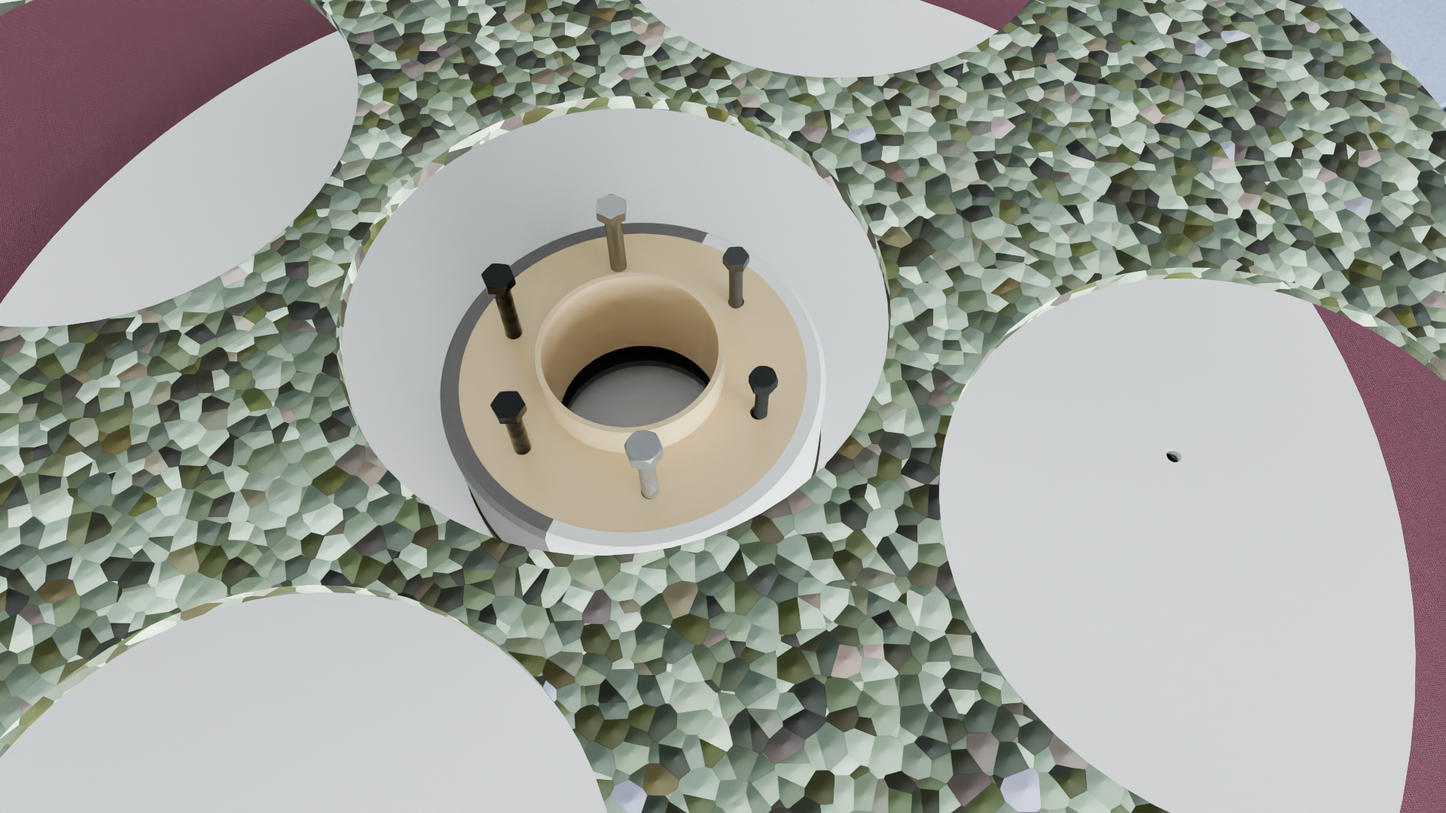bolt: (624, 430, 663, 464), (490, 391, 526, 419), (481, 263, 514, 288), (596, 193, 626, 219), (749, 366, 778, 391), (722, 246, 749, 266)
